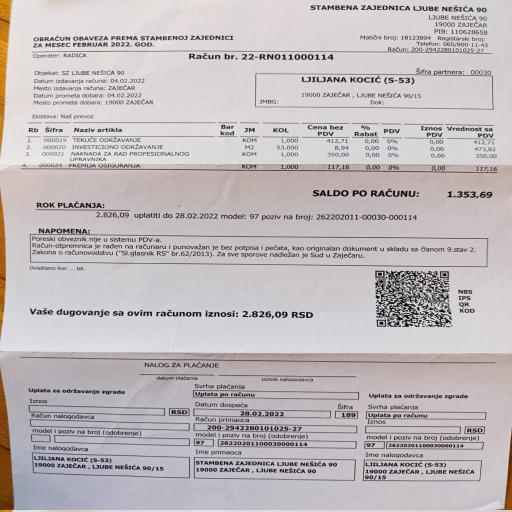stambena_zajednica: (36, 123, 501, 172)
stambena_zajednica_iznos: (23, 302, 325, 323)
